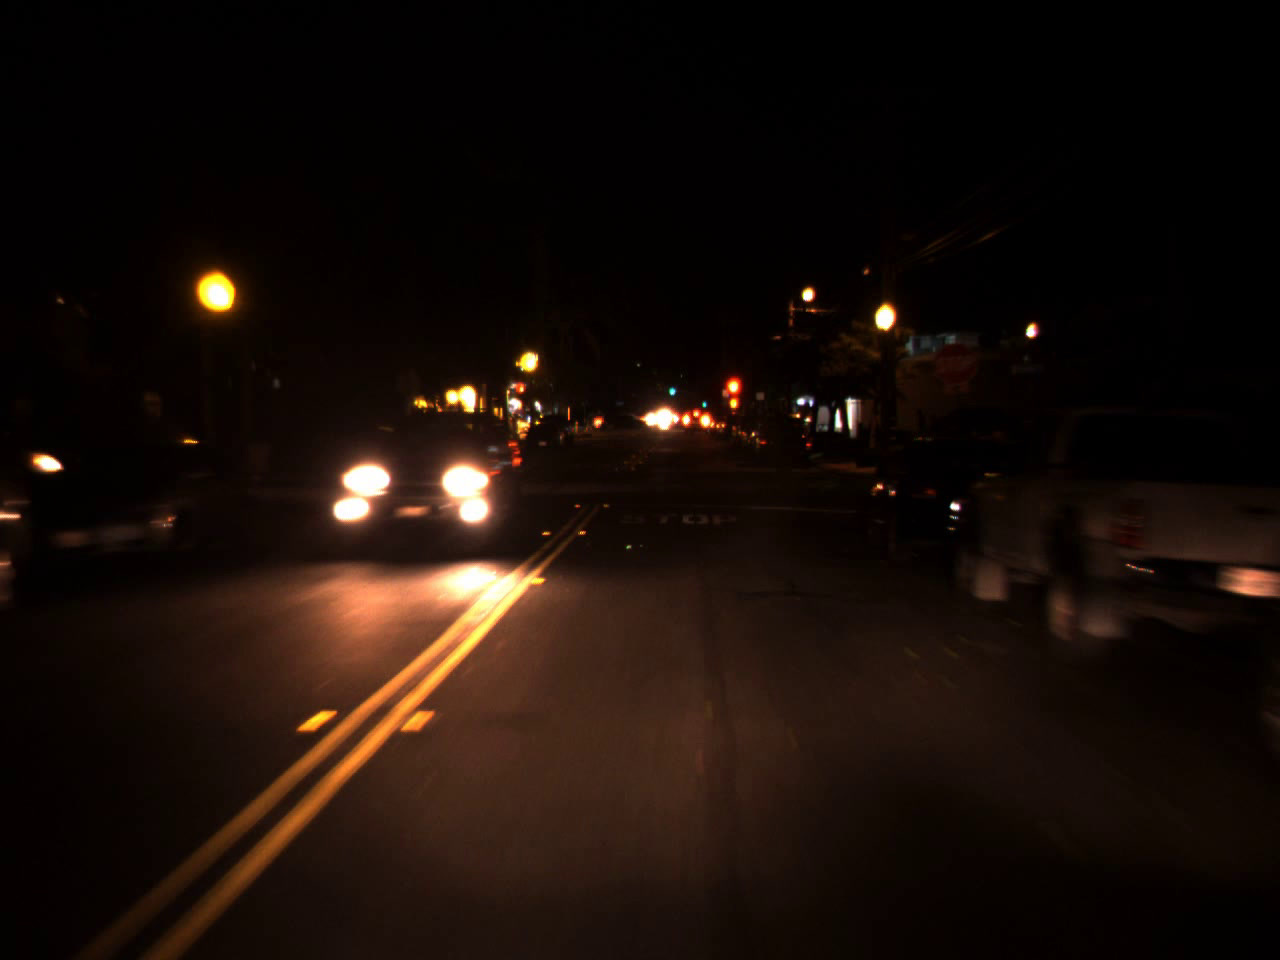go: (667, 381, 676, 396)
stop: (726, 375, 741, 410), (513, 380, 526, 407)
